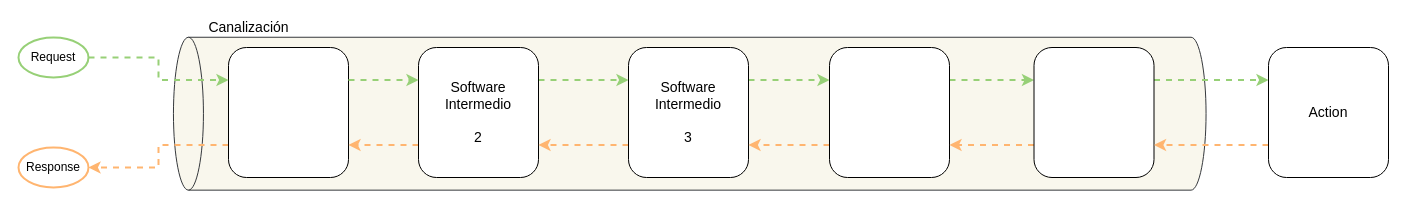
The diagram is 1406 pixels wide and 208 high, and some of its shapes have lost their labels. Each missing label, with the centre of its shape:
"Software Intermedio ...n" belongs at point 1093,112.
"Software Intermedio 1" belongs at point 288,112.
"Software Intermedio 4" belongs at point 889,112.
